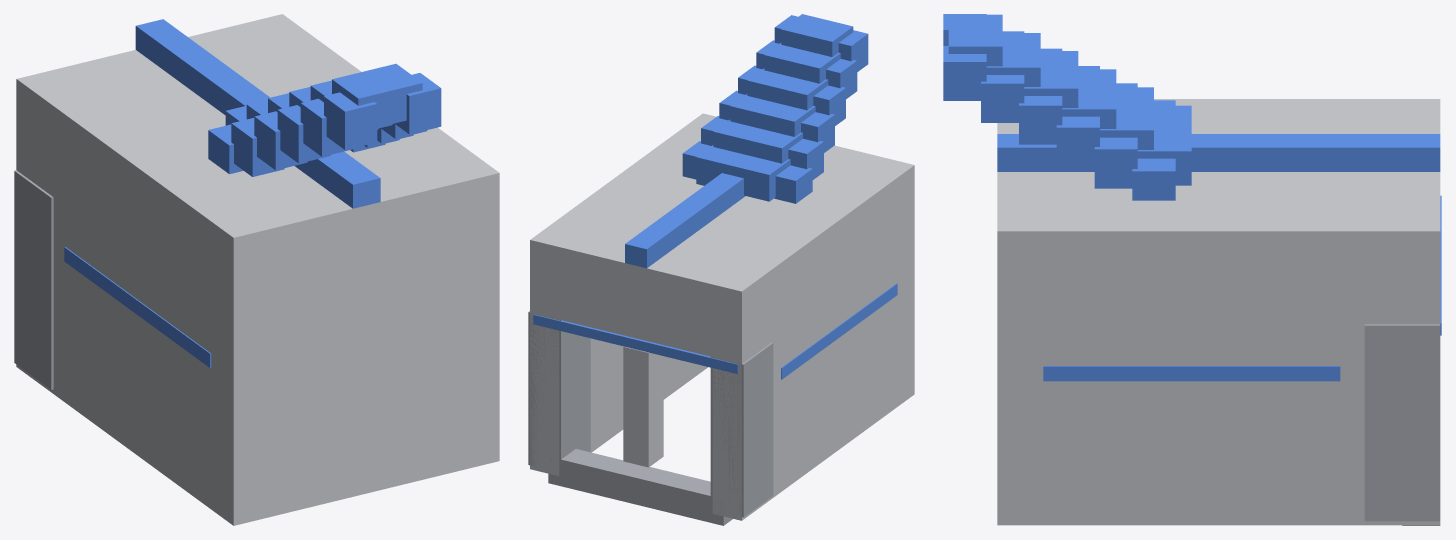
The model's file is elmo_cavaleiro_plumas.glb.
3 renders of one model, left to right at view 1: azimuth 30°, elevation 25°; view 2: azimuth 150°, elevation 25°; view 3: azimuth 270°, elevation 25°, orthographic. The views are drawn at different scales.
Visible parts, largest first — view 1: elmo_cavaleiro_plumas; view 2: elmo_cavaleiro_plumas; view 3: elmo_cavaleiro_plumas.
Part boxes in pixels (left/top/right/bottom): elmo_cavaleiro_plumas: left=14, top=14, right=499, bottom=525; elmo_cavaleiro_plumas: left=528, top=14, right=914, bottom=525; elmo_cavaleiro_plumas: left=943, top=14, right=1441, bottom=525.
Size of the model in its own units: 0.59 by 0.9 by 0.9225.
